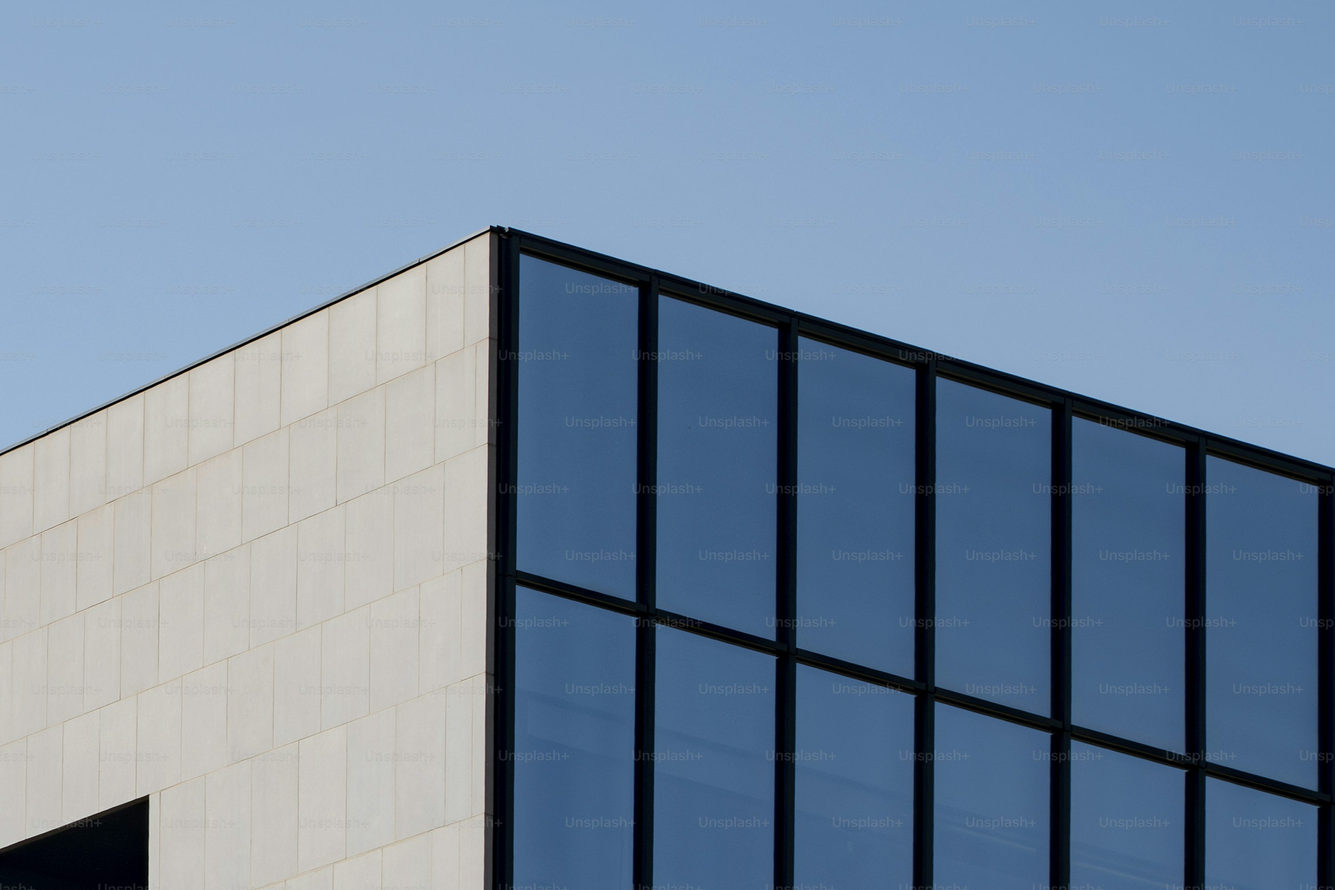glass_panel: (656, 297, 777, 637), (517, 256, 637, 598), (797, 339, 914, 676), (934, 379, 1051, 714), (1206, 458, 1319, 787), (1072, 419, 1184, 750), (513, 588, 635, 890), (653, 627, 774, 890), (794, 666, 912, 887), (931, 704, 1050, 890), (1071, 742, 1184, 890), (1206, 779, 1318, 890)
